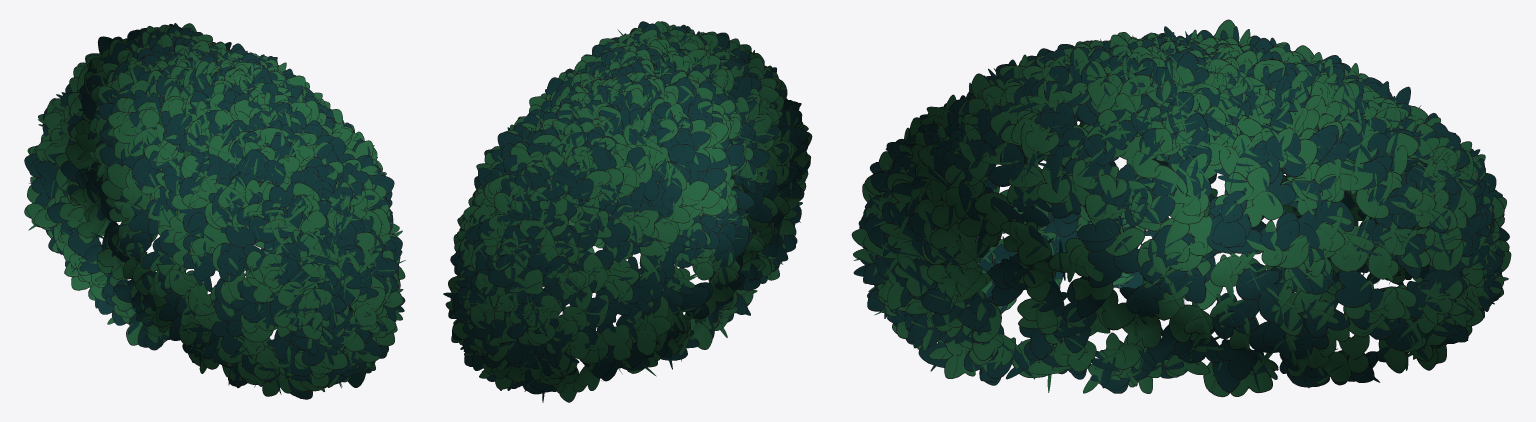
The model's file is Stylized_Bush_2 1.fbx.
The picture shows the model from 3 angles, left to right: view 1: azimuth 30°, elevation 25°; view 2: azimuth 150°, elevation 25°; view 3: azimuth 270°, elevation 25°; orthographic projection. The views are drawn at different scales.
Visible parts, largest first — view 1: Bush_2; view 2: Bush_2; view 3: Bush_2.
Boxes of the visible parts, x1,y1,x2,y2 form: Bush_2: (24,23,405,399); Bush_2: (443,21,812,402); Bush_2: (851,19,1511,397).
Bounding box in the file's own units: 1.83 × 3.56 × 1.96.
